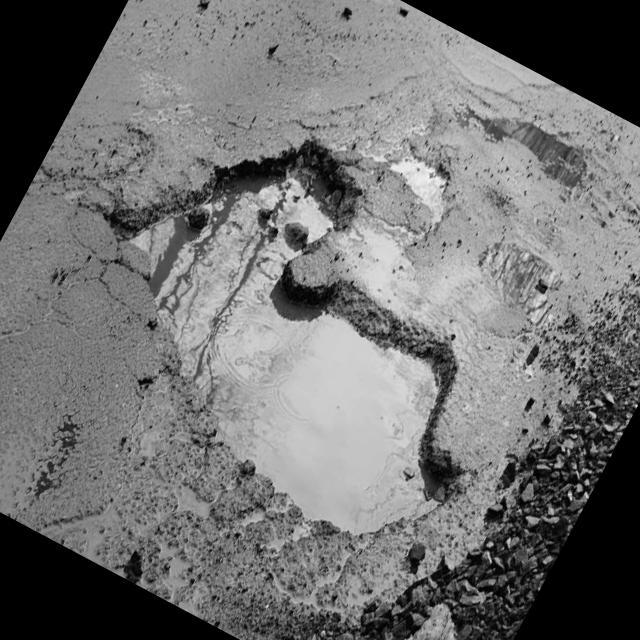Pothole: (20, 64, 582, 592), (365, 117, 474, 228)
